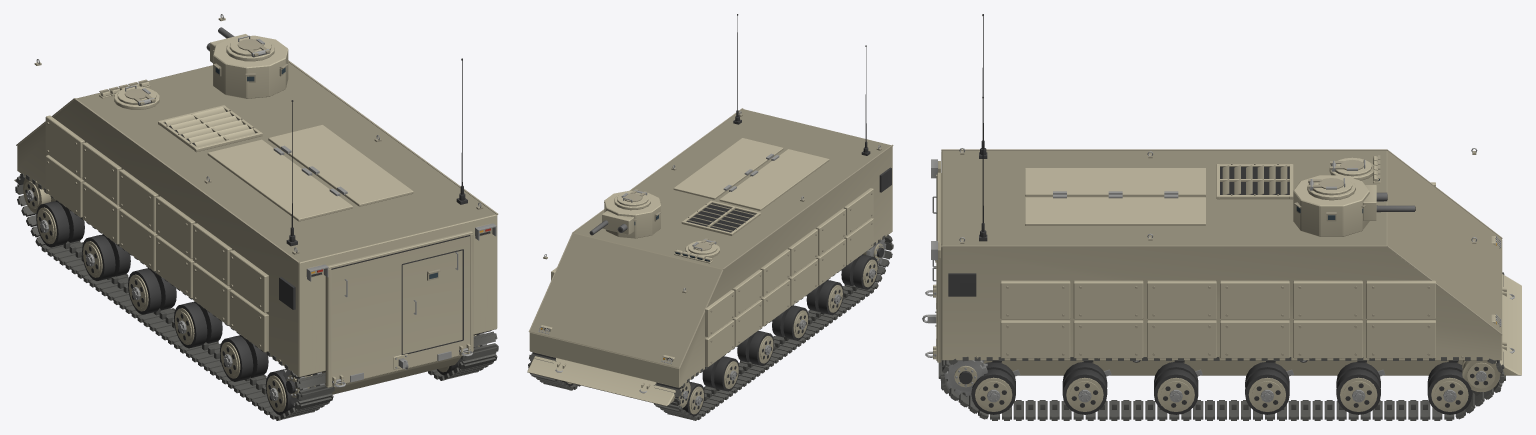
Rendered from usa_apc_aav.glb.
The picture shows the model from 3 angles, left to right: view 1: azimuth 30°, elevation 25°; view 2: azimuth 150°, elevation 25°; view 3: azimuth 270°, elevation 25°; orthographic projection. The views are drawn at different scales.
Parts seen in each view (by area): view 1: body, door, turret; view 2: body, turret, barrel; view 3: body, turret, door, barrel.
Part boxes in pixels (x1=…): body: x1=14, y1=14, x2=498, y2=420; door: x1=325, y1=231, x2=473, y2=387; turret: x1=213, y1=35, x2=288, y2=98; body: x1=527, y1=14, x2=893, y2=420; turret: x1=604, y1=189, x2=661, y2=238; barrel: x1=589, y1=210, x2=634, y2=235; body: x1=922, y1=14, x2=1521, y2=420; turret: x1=1293, y1=175, x2=1369, y2=236; door: x1=932, y1=172, x2=941, y2=362; barrel: x1=1363, y1=185, x2=1415, y2=220.
Size of the model in its own units: 3.47 by 5.02 by 8.61.
